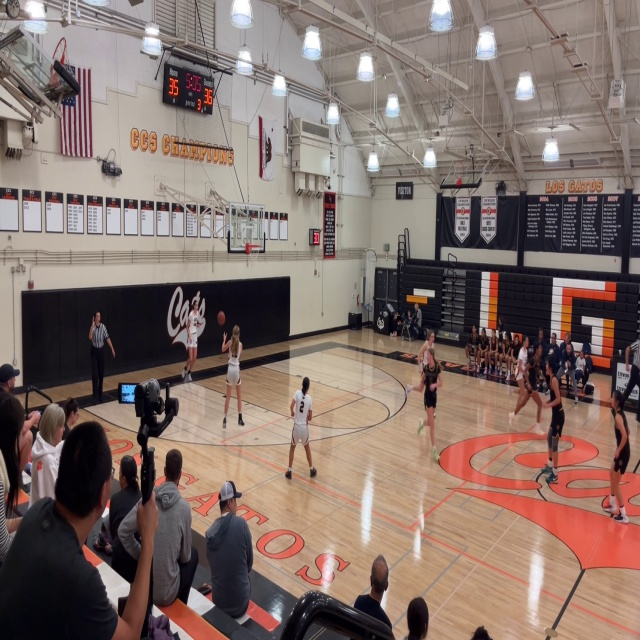Basketball: (217, 311, 225, 326)
